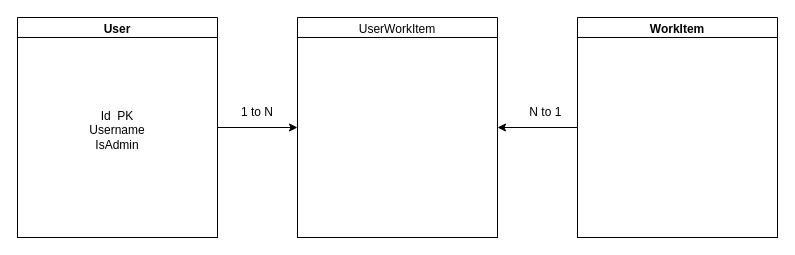
This 795x255 diagram has some shape labels left out. The centre of each missing label's shape, as x and y in pixels:
Id PK Title Description CreatedAt UpdatedAt: point (677, 137)
UserId (PK,FK) WorkitemId(PK,FK): point (397, 137)
